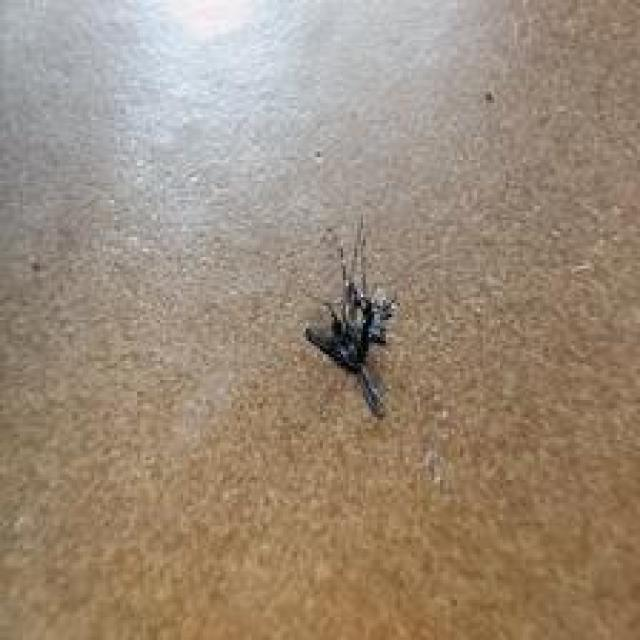Aedes albopictus: (303, 213, 400, 421)
